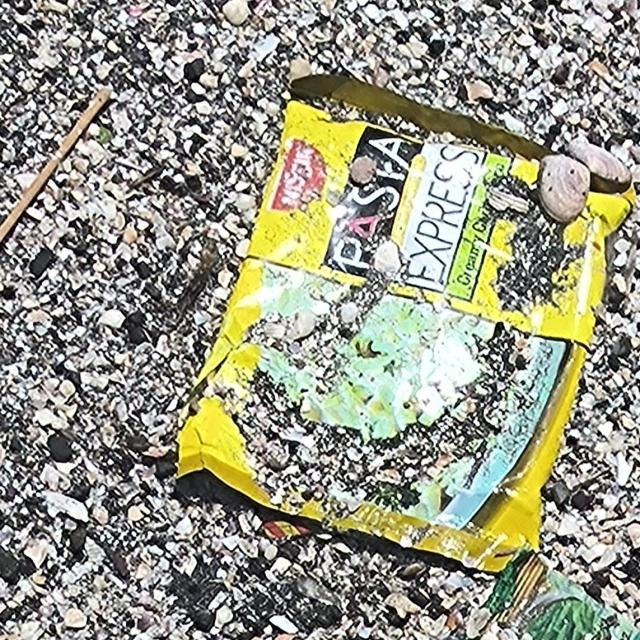plastic_waste: (178, 72, 640, 573)
